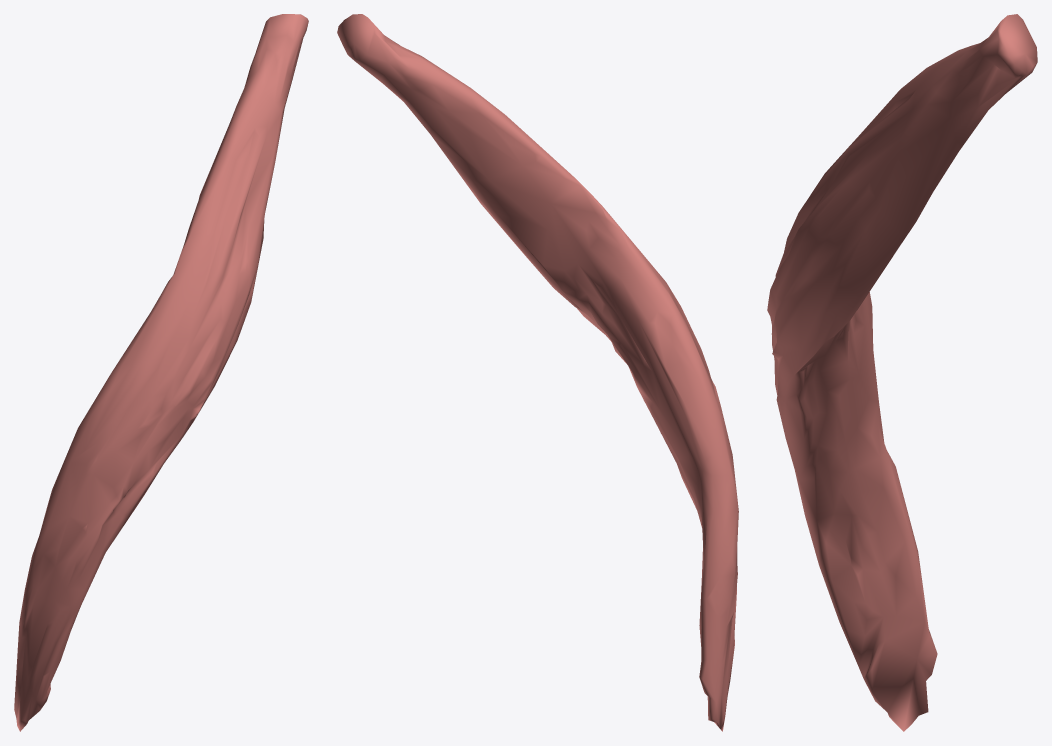
The picture shows the model from 3 angles, left to right: view 1: azimuth 30°, elevation 25°; view 2: azimuth 150°, elevation 25°; view 3: azimuth 270°, elevation 25°; orthographic projection. The views are drawn at different scales.
Visible parts, largest first — view 1: ZA_d07e330c4242bcee; view 2: ZA_d07e330c4242bcee; view 3: ZA_d07e330c4242bcee.
Boxes of the visible parts, x1,y1,x2,y2 form: ZA_d07e330c4242bcee: (14, 14, 308, 731); ZA_d07e330c4242bcee: (337, 14, 738, 731); ZA_d07e330c4242bcee: (767, 14, 1037, 731).
Size of the model in its own units: 0.0538 by 0.0971 by 0.0255.
